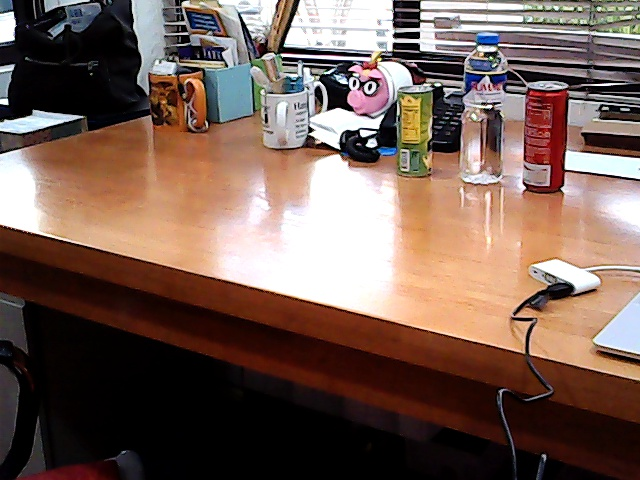Cola: (522, 77, 575, 195)
Pine Juice: (391, 86, 440, 181)
Summit Water: (455, 30, 515, 186)
